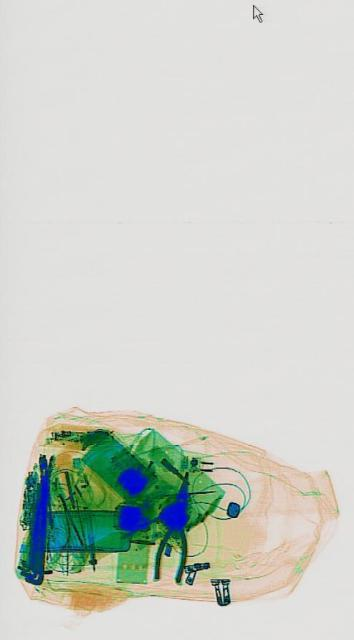Pliers: (150, 462, 198, 590)
